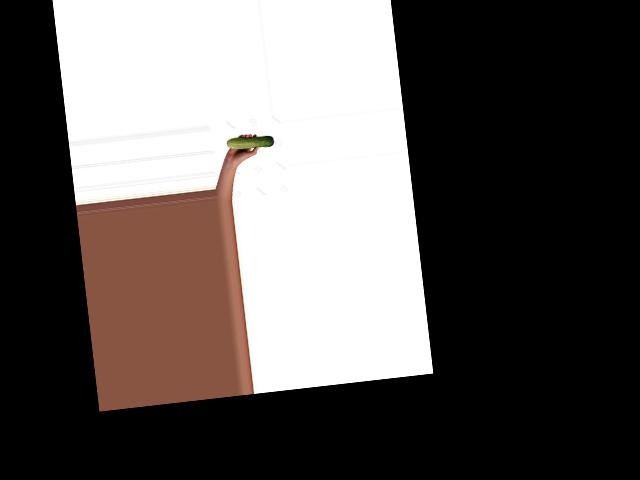cucumber: (225, 134, 274, 152)
